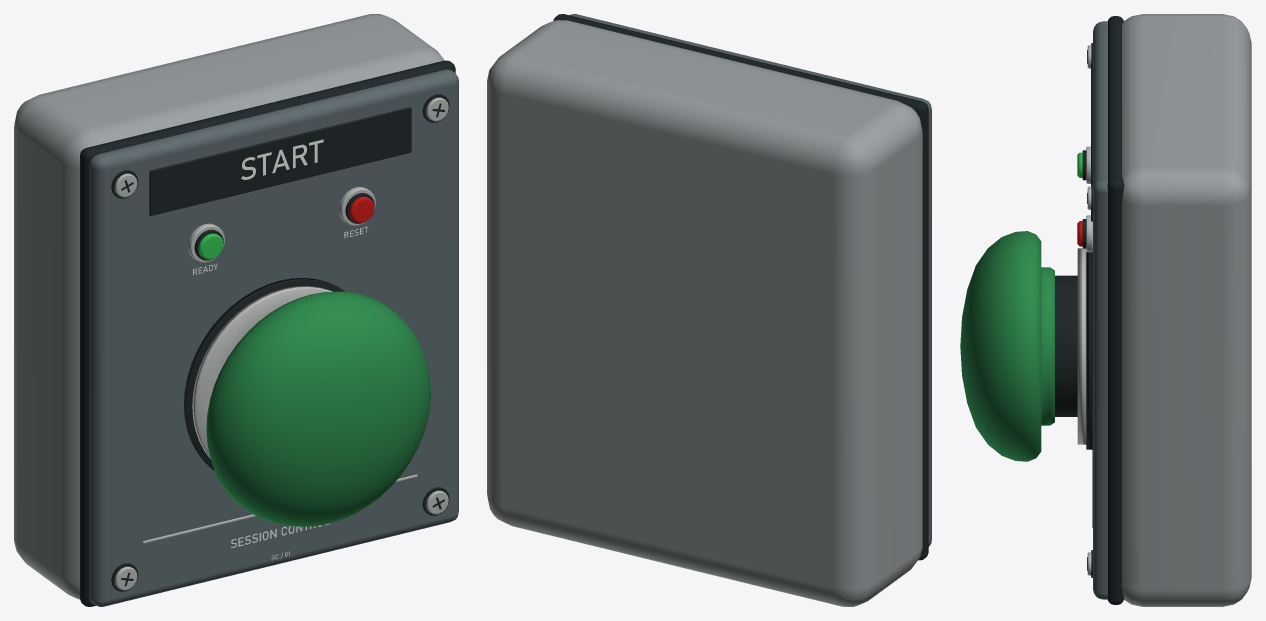
The model's file is IndustrialStartButton.glb.
The picture shows the model from 3 angles, left to right: view 1: azimuth 30°, elevation 25°; view 2: azimuth 150°, elevation 25°; view 3: azimuth 270°, elevation 25°; orthographic projection. The views are drawn at different scales.
Visible parts, largest first — view 1: Static_Control_PowdercoatFace, Static_Control_SatinCastAluminum, ButtonCap, Static_Control_GraphiteGasket, Static_Control_SatinHardware, Static_Control_IvoryEtching; view 2: Static_Control_SatinCastAluminum, Static_Control_GraphiteGasket, Static_Control_PowdercoatFace; view 3: Static_Control_SatinCastAluminum, ButtonCap, Static_Control_GraphiteGasket, Static_Control_PowdercoatFace, Static_Control_SatinHardware.
Part boxes in pixels (<box>): Static_Control_PowdercoatFace: <box>89,69,458,606</box>; Static_Control_SatinCastAluminum: <box>14,14,444,599</box>; ButtonCap: <box>206,291,430,526</box>; Static_Control_GraphiteGasket: <box>80,60,455,606</box>; Static_Control_SatinHardware: <box>114,97,448,590</box>; Static_Control_IvoryEtching: <box>193,139,368,560</box>; Static_Control_SatinCastAluminum: <box>487,20,922,606</box>; Static_Control_GraphiteGasket: <box>553,14,928,560</box>; Static_Control_PowdercoatFace: <box>570,14,931,546</box>; Static_Control_SatinCastAluminum: <box>1122,14,1251,606</box>; ButtonCap: <box>960,231,1054,461</box>; Static_Control_GraphiteGasket: <box>1055,16,1124,604</box>; Static_Control_PowdercoatFace: <box>1093,21,1107,599</box>; Static_Control_SatinHardware: <box>1077,45,1092,575</box>.
Bounding box in the file's own units: 0.24 × 0.28 × 0.169.
